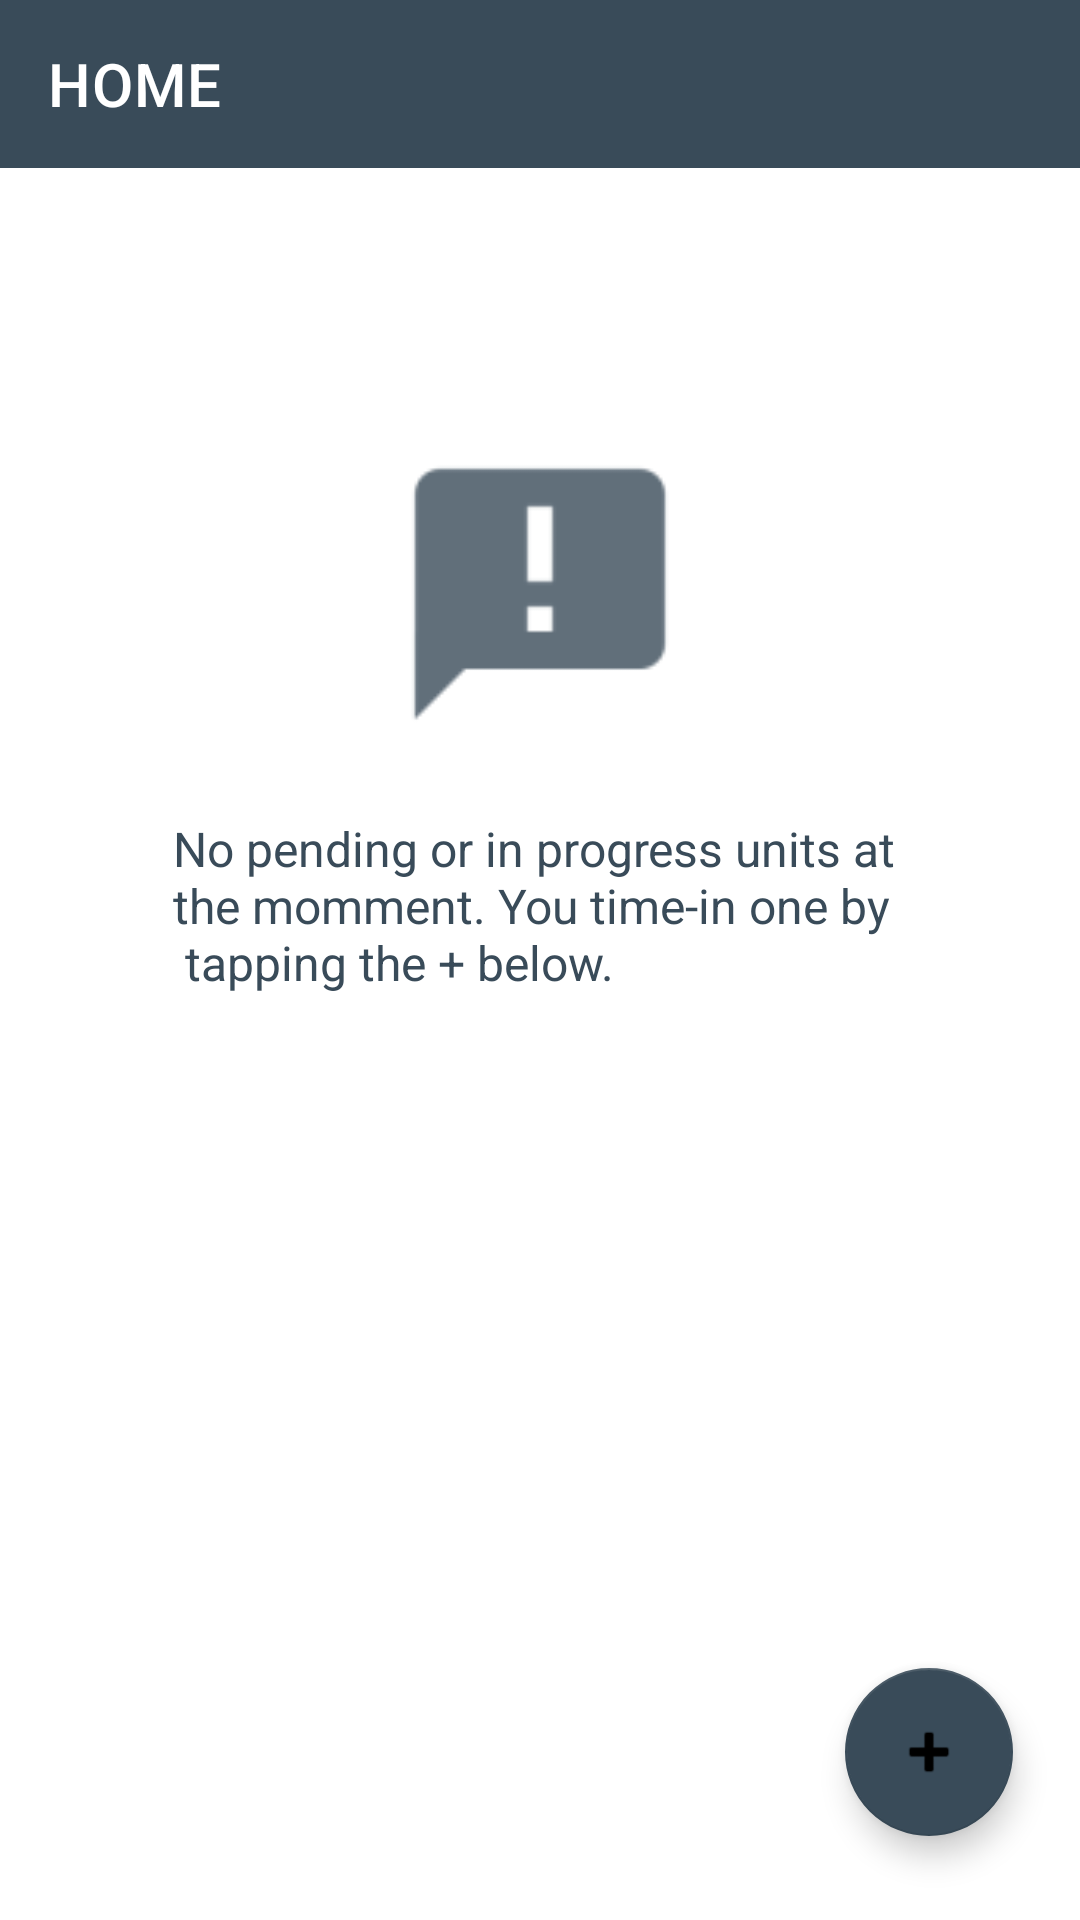

Point at icon controls on the screen. Image size 1080*1920, points as (x,y).
add: (929,1752)
Notice: (540,594)
